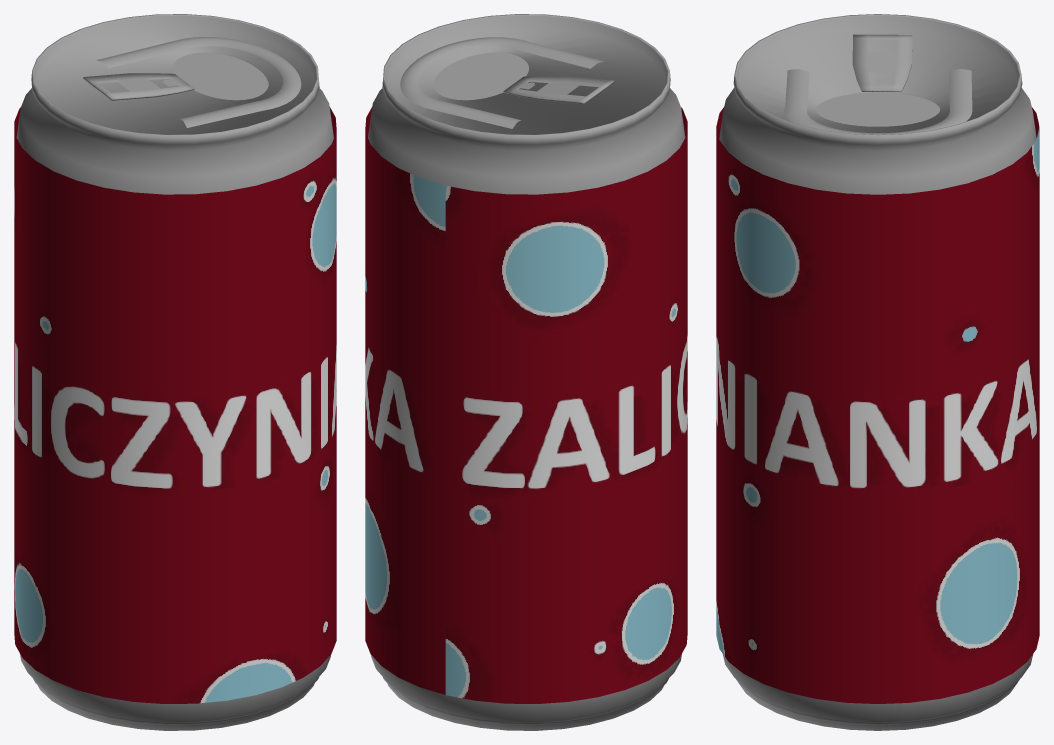
File: puszka 2 merged.fbx
The picture shows the model from 3 angles, left to right: view 1: azimuth 30°, elevation 25°; view 2: azimuth 150°, elevation 25°; view 3: azimuth 270°, elevation 25°; orthographic projection.
Parts seen in each view (by area): view 1: Plane; view 2: Plane; view 3: Plane.
Part boxes in pixels (bbox=[...]): Plane: bbox=[14, 14, 336, 730]; Plane: bbox=[365, 14, 687, 730]; Plane: bbox=[716, 14, 1039, 730].
Size of the model in its own units: 178 by 366 by 178.
2 materials, 1 textured.
